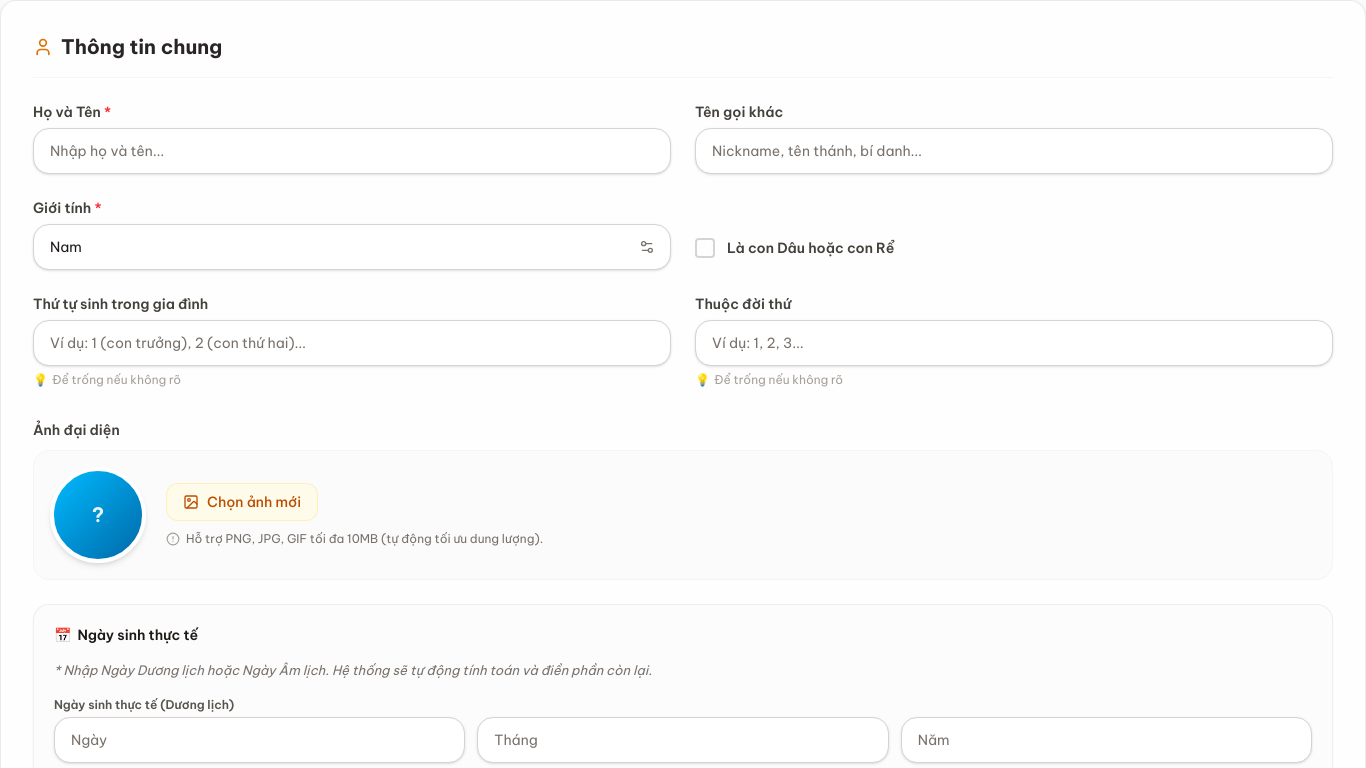
Test case: MemberForm › validation › tháng sinh không hợp lệ (tháng 13) → hiện lỗi
In the field with placeholder "Nhập họ và tên...": coordinates (352, 151) [33,128,671,174], type "Test"
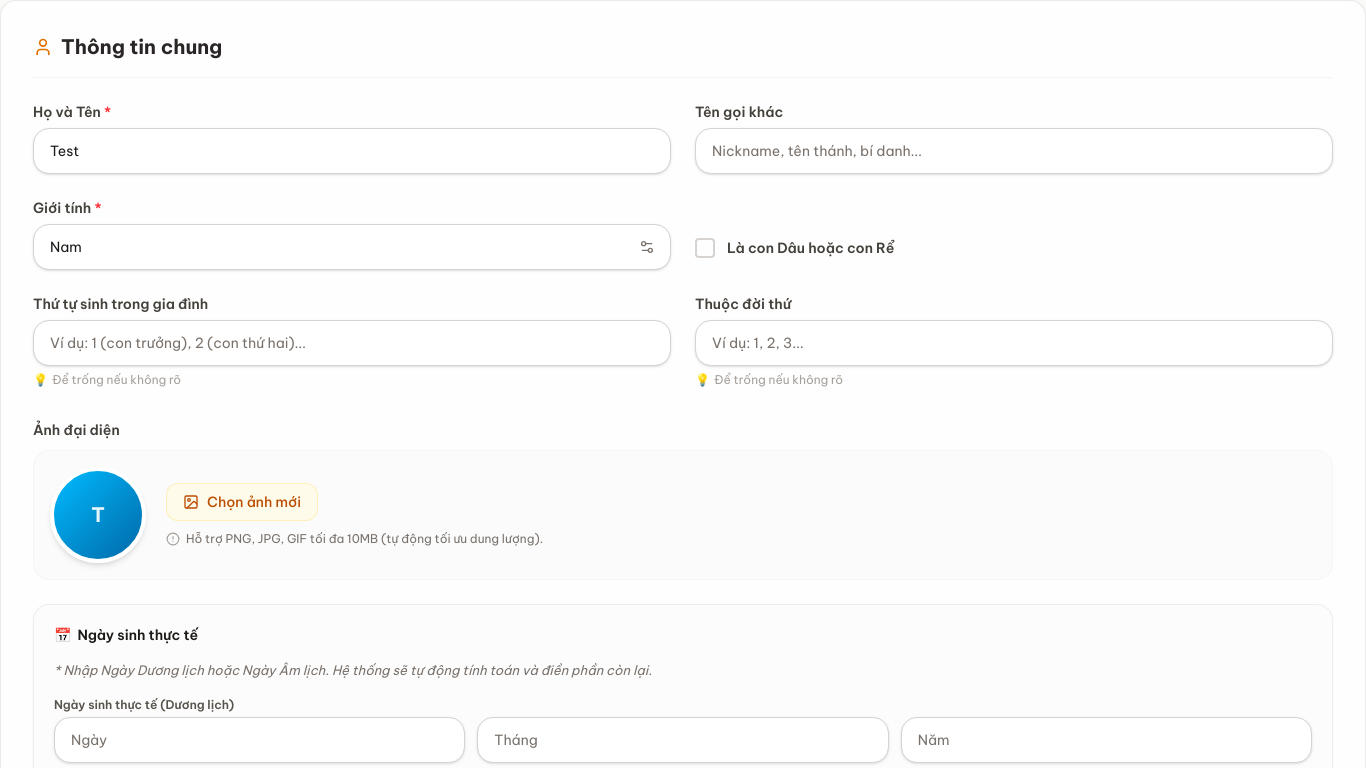
In the number field with placeholder "Tháng": coordinates (683, 740) [477,716,889,762], type "13"
(page scrolled)
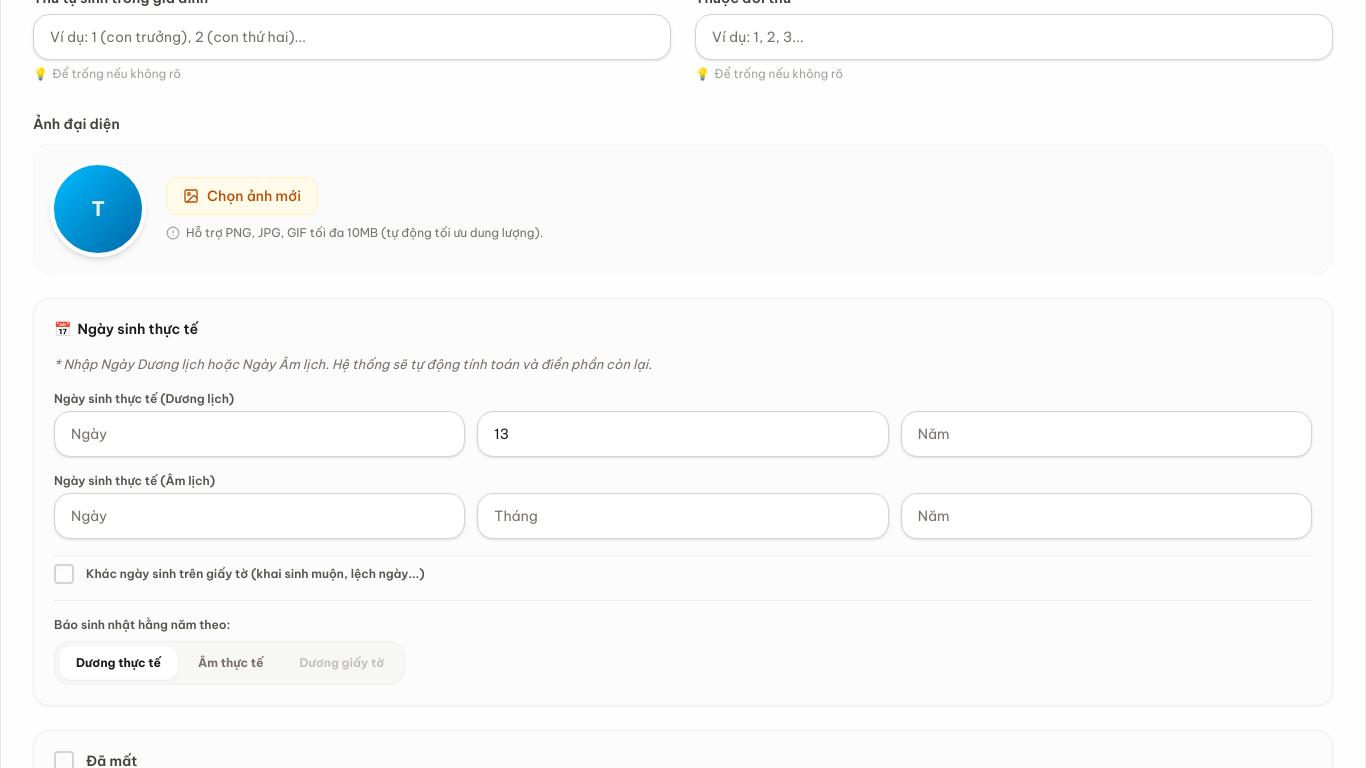
Submit the form
(page scrolled)
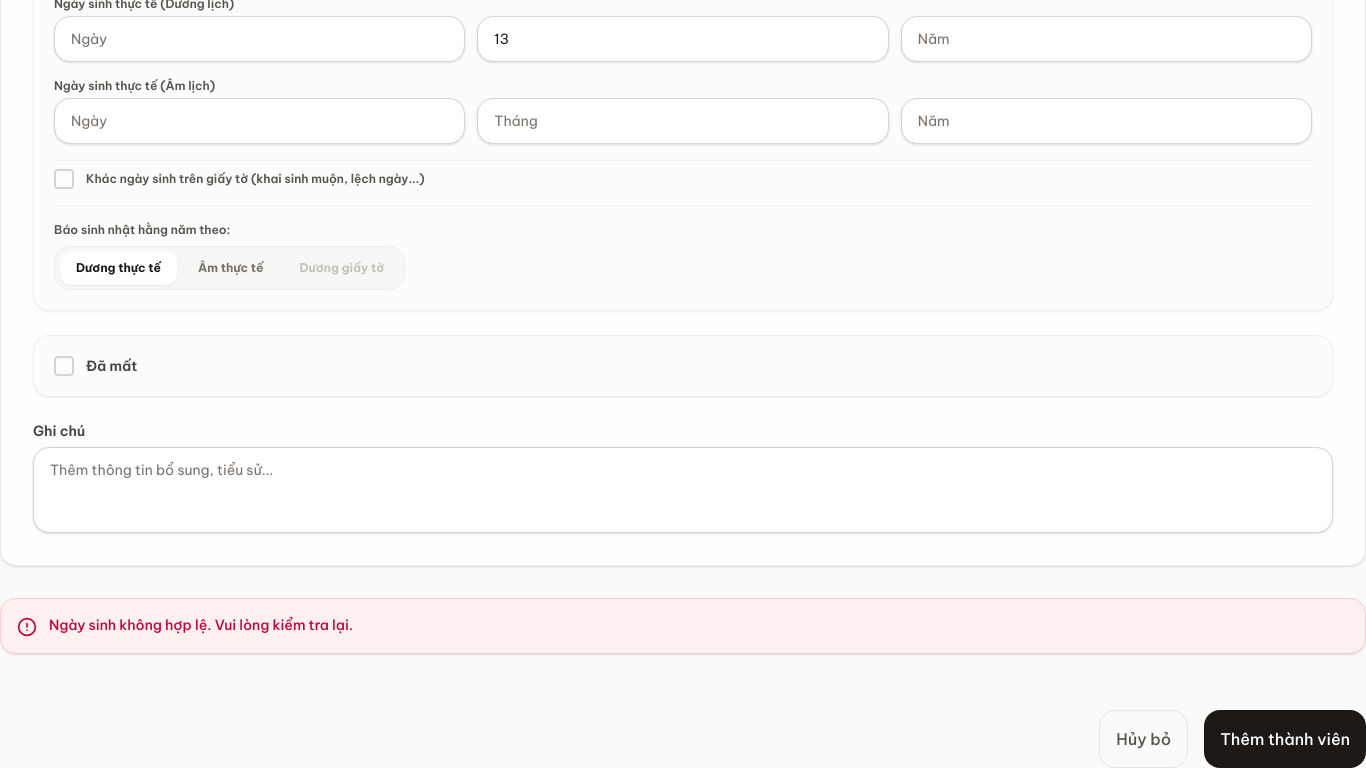
Expected: the text "Ngày sinh không hợp lệ. Vui lòng kiểm tra lại." is shown, [49,614,353,634]
